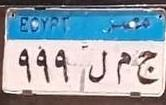9: (52, 49, 72, 83), (35, 49, 52, 84), (17, 47, 33, 83)
jeem: (136, 48, 160, 86)
laam: (89, 47, 108, 86)
meem: (114, 50, 133, 85)
